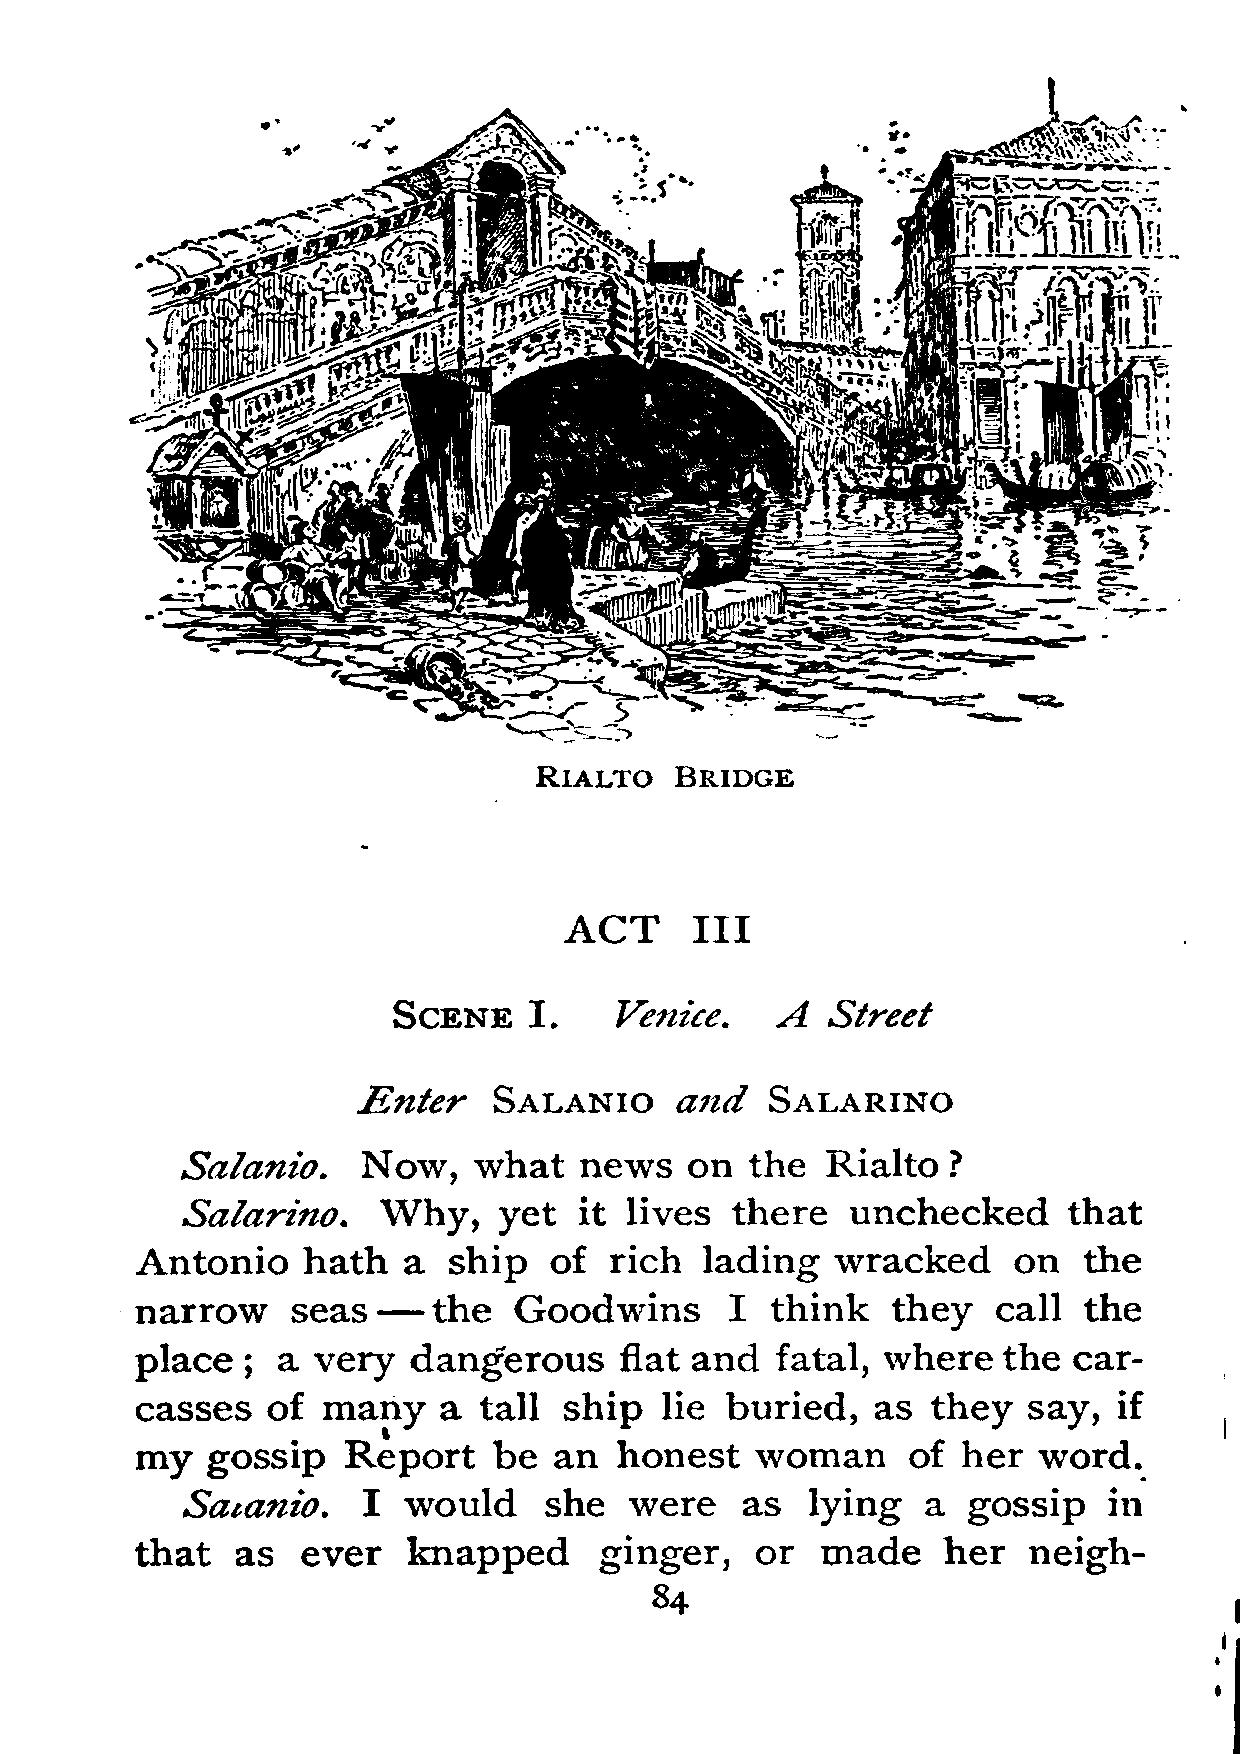chapter: (356, 910, 958, 1117)
content: (132, 1143, 1147, 1578)
content_pagenumber: (650, 1580, 690, 1621)
